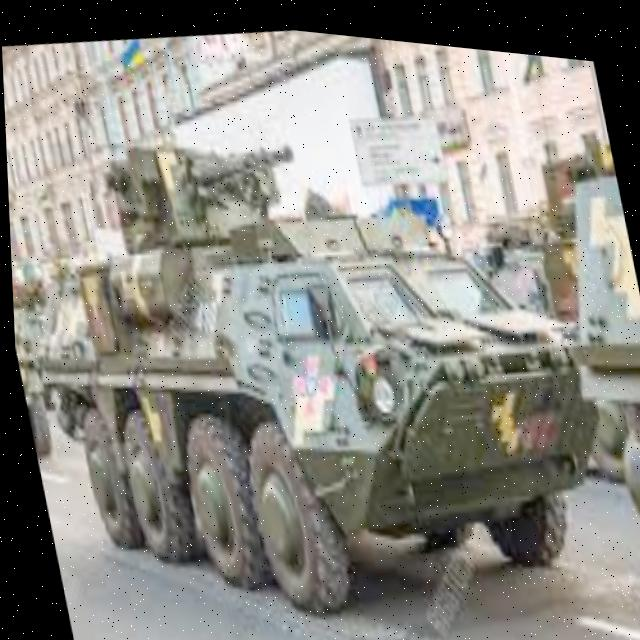MIL_APC: (8, 71, 640, 640)
